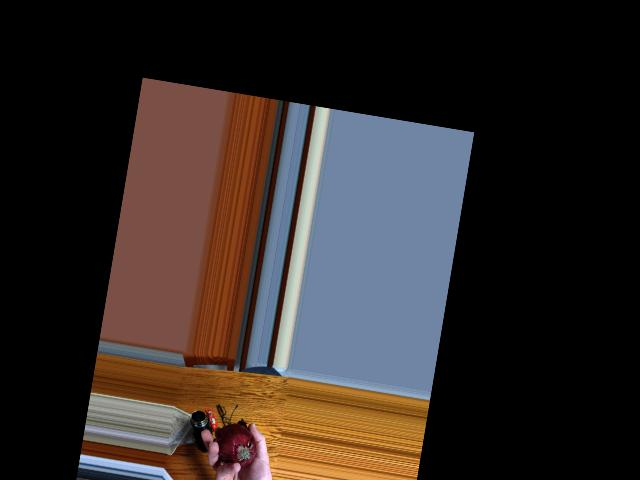onion: (214, 424, 263, 473)
